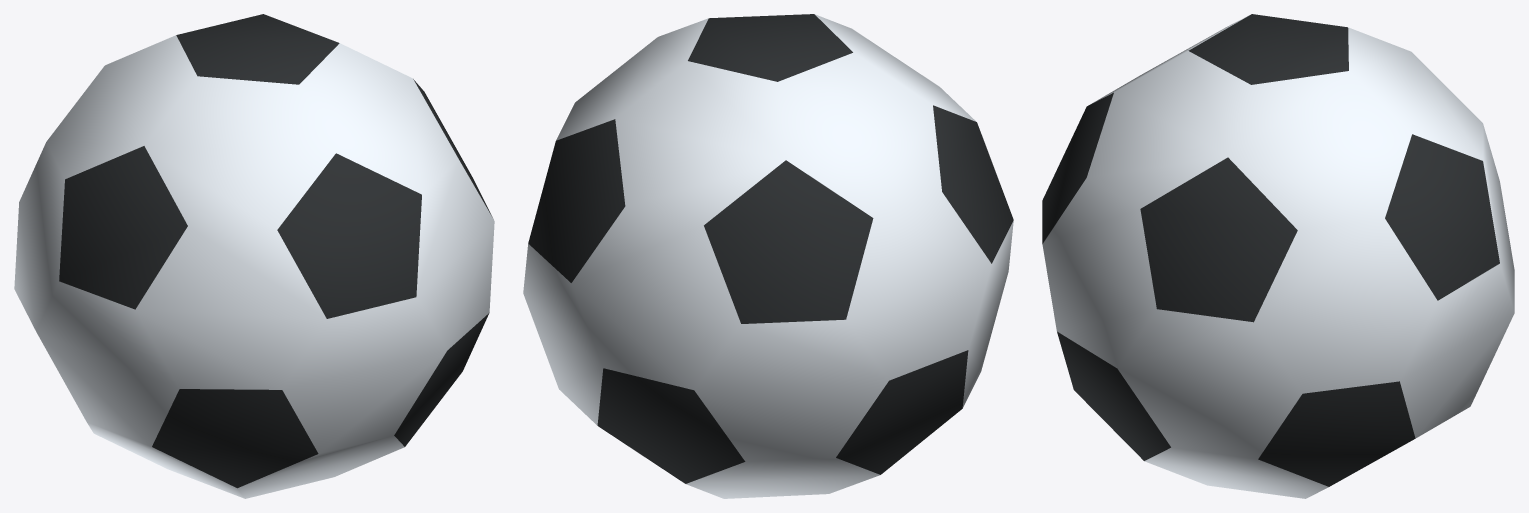
The model's file is SM_Item_SoccerBall_01.obj.
3 renders of one model, left to right at view 1: azimuth 30°, elevation 25°; view 2: azimuth 150°, elevation 25°; view 3: azimuth 270°, elevation 25°, orthographic. The views are drawn at different scales.
Parts seen in each view (by area): view 1: SM_Item_SoccerBall_01_Mat_SwatchOverlay_PolygonTown_01_Inst; view 2: SM_Item_SoccerBall_01_Mat_SwatchOverlay_PolygonTown_01_Inst; view 3: SM_Item_SoccerBall_01_Mat_SwatchOverlay_PolygonTown_01_Inst.
Part boxes in pixels (x1=…): SM_Item_SoccerBall_01_Mat_SwatchOverlay_PolygonTown_01_Inst: x1=14, y1=14, x2=494, y2=498; SM_Item_SoccerBall_01_Mat_SwatchOverlay_PolygonTown_01_Inst: x1=523, y1=14, x2=1013, y2=498; SM_Item_SoccerBall_01_Mat_SwatchOverlay_PolygonTown_01_Inst: x1=1042, y1=14, x2=1514, y2=498.
Size of the model in its own units: 0.3096 by 0.2951 by 0.3038.
1 material, 1 textured.
